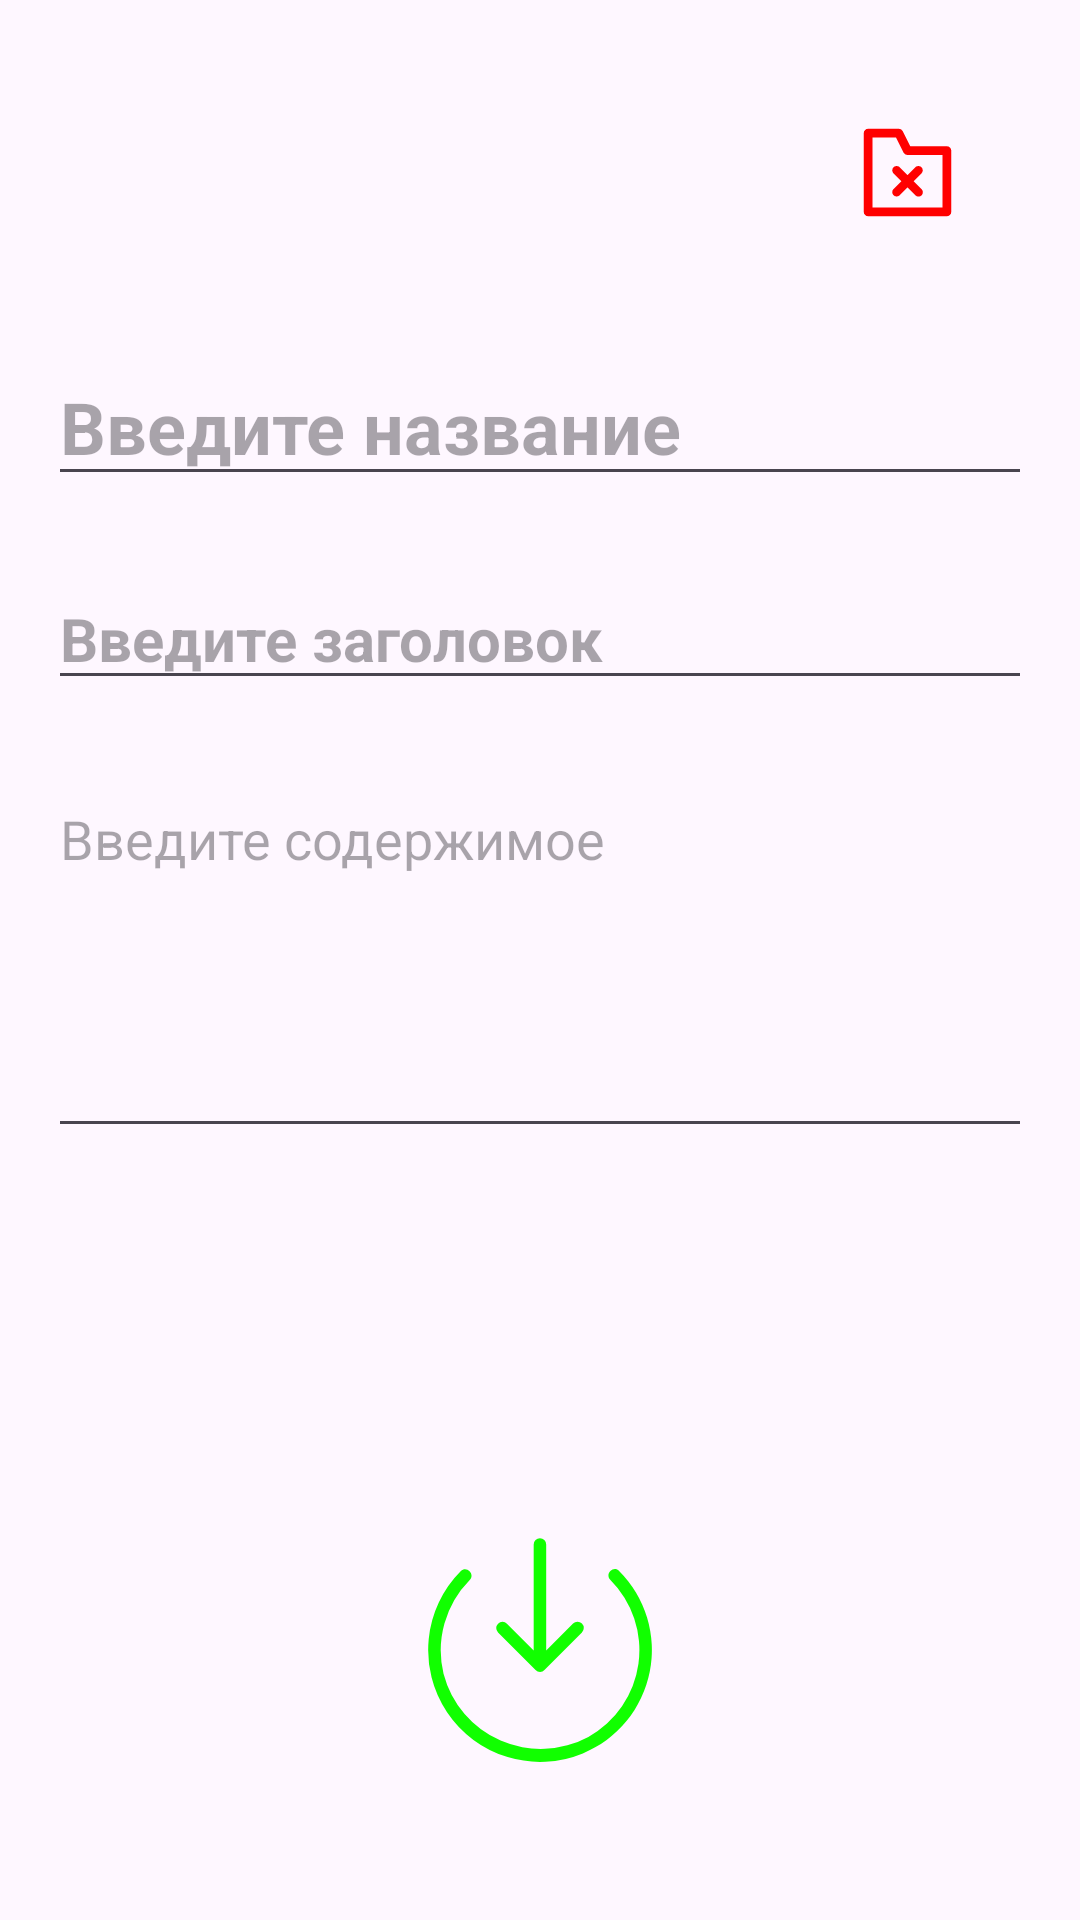

Where to tap for icons on this 1080 × 1920 app screen, as (x,y):
Сохранить: (540,1650)
Удалить: (907,172)
